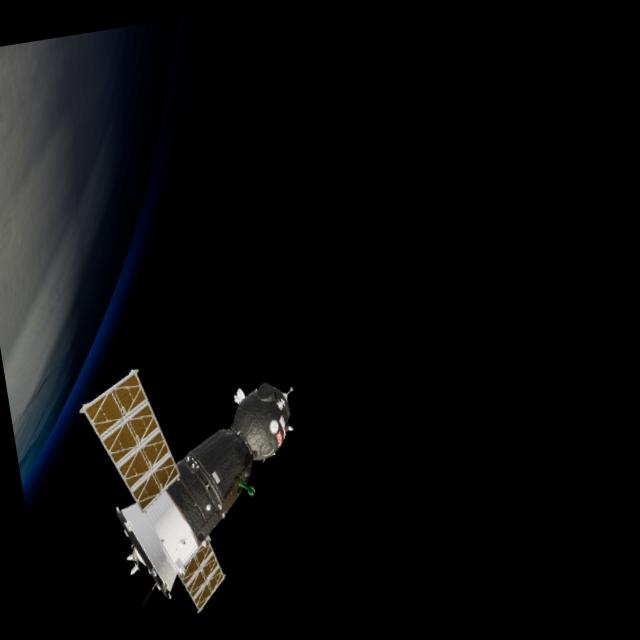Satellites revolving around earth: (72, 342, 327, 629)
